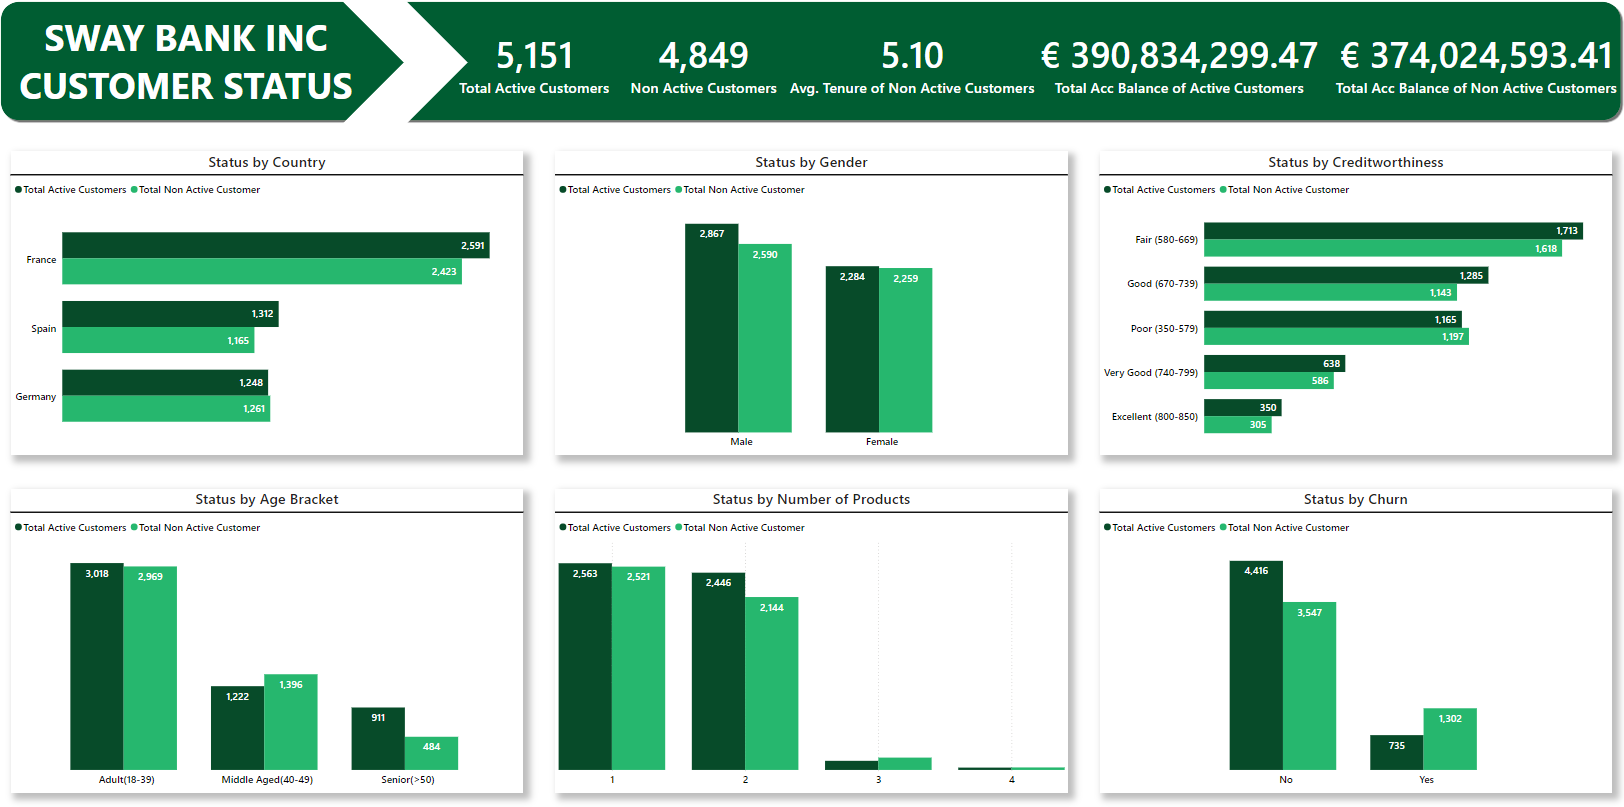

What the dashboard file says about the page in this screenshot:
{"tool":"powerbi","page":{"name":"STATUS","canvas":[2400,1200],"ordinal":2},"visuals":[{"type":"shape","box":[0,0,2399.3,185.8],"z":0},{"type":"textbox","box":[19.9,15.5,517.5,157],"z":1},{"type":"shape","box":[508.6,4.4,185.8,181.3],"z":2},{"type":"card","title":"Total Churned Customers","fields":{"Values":["Bank Churn.Total Active Customers"]},"box":[659,15.5,265.4,157],"z":3},{"type":"card","title":"Total Churned Customers","fields":{"Values":["Bank Churn.Total Non Active Customer"]},"box":[908.9,15.5,265.4,157],"z":4},{"type":"card","title":"Total Churned Customers","fields":{"Values":["Bank Churn.Avg. Tenure of Non Active Customers"]},"box":[1158.7,15.5,380.4,157],"z":6},{"type":"card","title":"Total Churned Customers","fields":{"Values":["Bank Churn.Total Acc Balance of Active Customers"]},"box":[1523.6,17.7,437.8,154.8],"z":7},{"type":"card","title":"Total Churned Customers","fields":{"Values":["Bank Churn.Total Acc Balance of Non Active Customers"]},"box":[1961.5,17.7,437.8,152.6],"z":8},{"type":"clusteredBarChart","title":"Status by Country","fields":{"Category":["Bank Churn.Geography"],"Y":["Bank Churn.Total Active Customers","Bank Churn.Total Non Active Customer"]},"box":[19.9,225.6,756.3,448.9],"z":9},{"type":"clusteredColumnChart","title":"Status by Age Bracket","fields":{"Category":["Bank Churn.Age_Bracket"],"Y":["Bank Churn.Total Active Customers","Bank Churn.Total Non Active Customer"]},"box":[19.9,723.1,756.3,448.9],"z":11},{"type":"clusteredBarChart","title":"Status by Creditworthiness","fields":{"Category":["Bank Churn.Creditworthiness"],"Y":["Bank Churn.Total Active Customers","Bank Churn.Total Non Active Customer"]},"box":[1625.3,225.6,756.3,448.9],"z":13},{"type":"clusteredColumnChart","title":"Status by Gender","fields":{"Category":["Bank Churn.Gender"],"Y":["Bank Churn.Total Active Customers","Bank Churn.Total Non Active Customer"]},"box":[822.6,225.6,756.3,448.9],"z":14},{"type":"clusteredColumnChart","title":"Status by Number of Products","fields":{"Y":["Bank Churn.Total Active Customers","Bank Churn.Total Non Active Customer"],"Category":["Bank Churn.Num_Of_Products"]},"box":[822.6,723.1,756.3,448.9],"z":15},{"type":"clusteredColumnChart","title":"Status by Churn","fields":{"Y":["Bank Churn.Total Active Customers","Bank Churn.Total Non Active Customer"],"Category":["Bank Churn.Exited"]},"box":[1625.3,723.1,756.3,448.9],"z":16}]}

Visuals, with their boxes in screenshot pixels (x1, y1, x2, y2), scaled from the page's 2400x1200 canvas onto the 1624x807 screenshot:
shape: 0, 0, 1623, 125
textbox: 13, 10, 364, 116
shape: 344, 3, 470, 125
"Total Churned Customers" card: 446, 10, 626, 116
"Total Churned Customers" card: 615, 10, 795, 116
"Total Churned Customers" card: 784, 10, 1041, 116
"Total Churned Customers" card: 1031, 12, 1327, 116
"Total Churned Customers" card: 1327, 12, 1623, 115
"Status by Country" clusteredBarChart: 13, 152, 525, 454
"Status by Age Bracket" clusteredColumnChart: 13, 486, 525, 788
"Status by Creditworthiness" clusteredBarChart: 1100, 152, 1612, 454
"Status by Gender" clusteredColumnChart: 557, 152, 1068, 454
"Status by Number of Products" clusteredColumnChart: 557, 486, 1068, 788
"Status by Churn" clusteredColumnChart: 1100, 486, 1612, 788
